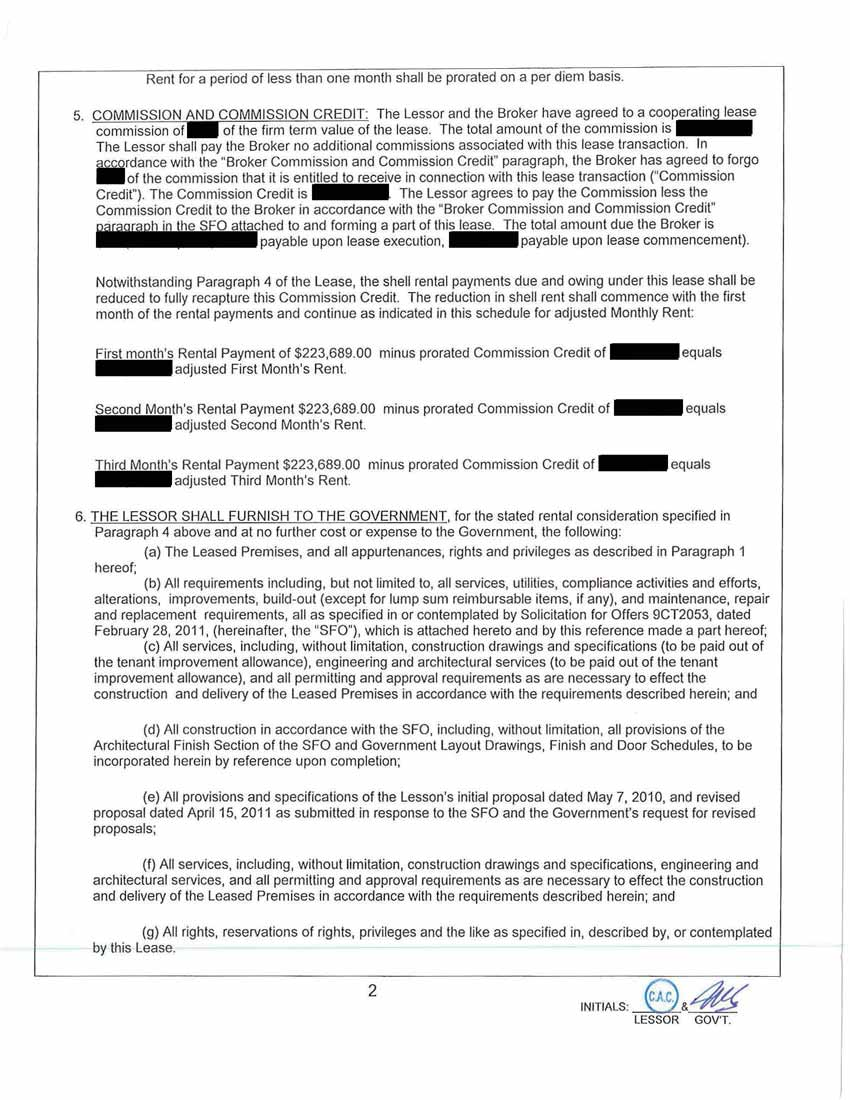handwritten: (689, 978, 754, 1016)
